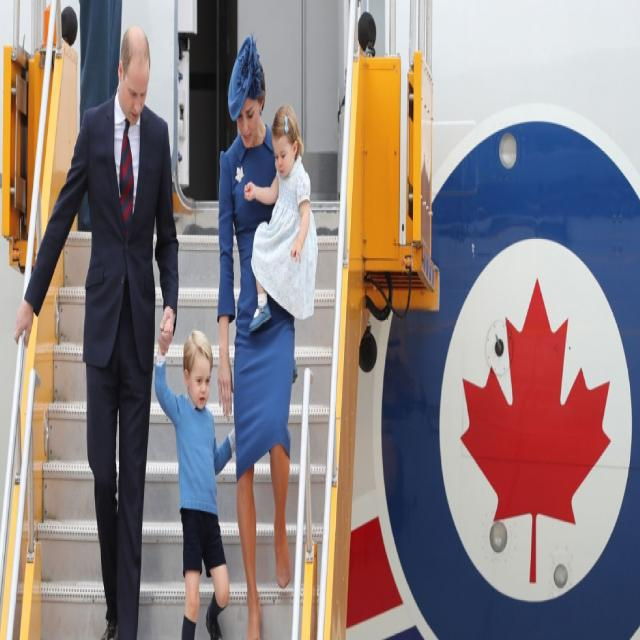body: (12, 16, 182, 638), (215, 31, 296, 640), (154, 316, 236, 640), (243, 104, 319, 389)
